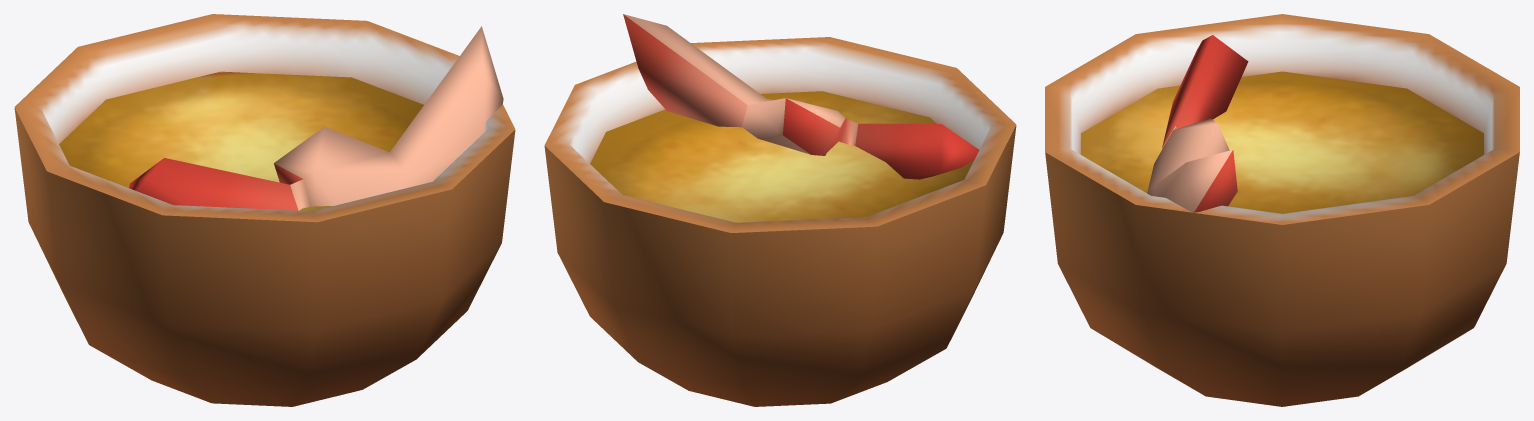
File: Bowl_Lobster.fbx
3 renders of one model, left to right at view 1: azimuth 30°, elevation 25°; view 2: azimuth 150°, elevation 25°; view 3: azimuth 270°, elevation 25°, orthographic. The views are drawn at different scales.
Visible parts, largest first — view 1: BowlLobster; view 2: BowlLobster; view 3: BowlLobster.
Part boxes in pixels (x1,y1,x2,y2): BowlLobster: (14, 14, 515, 406); BowlLobster: (544, 14, 1016, 406); BowlLobster: (1045, 14, 1519, 406).
Size of the model in its own units: 27.48 by 17.94 by 26.14.
